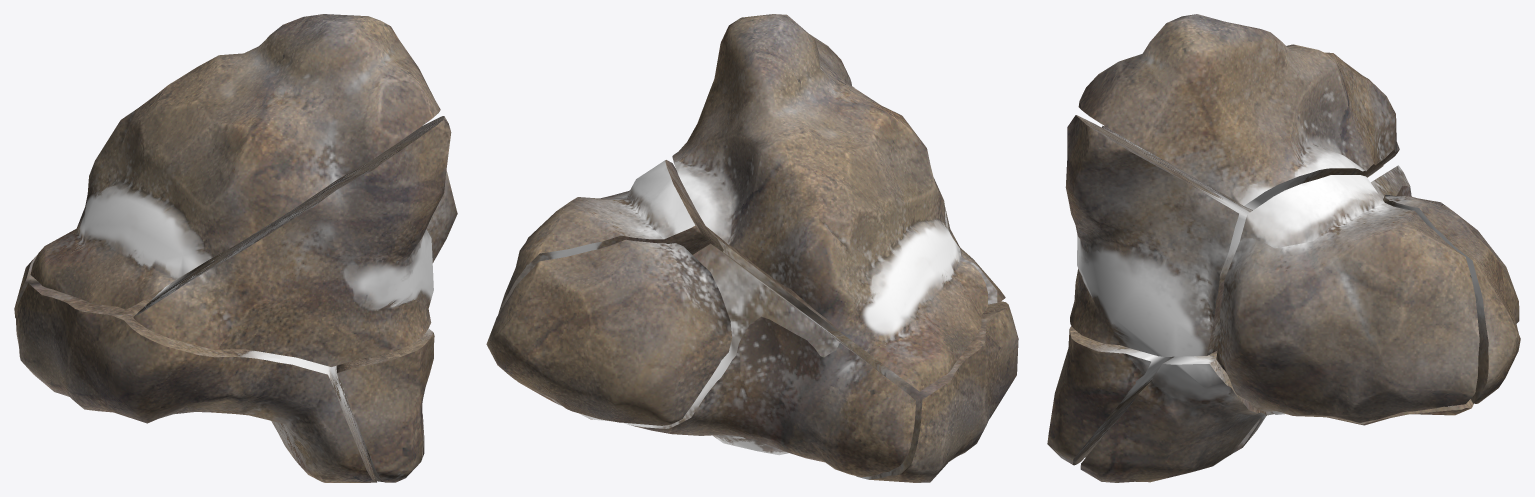
Rendered from SM_MetalNode_1a_Pieces.fbx.
3 renders of one model, left to right at view 1: azimuth 30°, elevation 25°; view 2: azimuth 150°, elevation 25°; view 3: azimuth 270°, elevation 25°, orthographic. The views are drawn at different scales.
Visible parts, largest first — view 1: SM_MetalNode_1a_Pieces_cell_2, SM_MetalNode_1a_Pieces_cell_4, SM_MetalNode_1a_Pieces_cell_1, SM_MetalNode_1a_Pieces_cell_5, SM_MetalNode_1a_Pieces_cell_8; view 2: SM_MetalNode_1a_Pieces_cell_2, SM_MetalNode_1a_Pieces_cell_6, SM_MetalNode_1a_Pieces_cell_3, SM_MetalNode_1a_Pieces_cell_1, SM_MetalNode_1a_Pieces_cell_8, SM_MetalNode_1a_Pieces_cell_4; view 3: SM_MetalNode_1a_Pieces_cell_8, SM_MetalNode_1a_Pieces_cell_2, SM_MetalNode_1a_Pieces_cell_4, SM_MetalNode_1a_Pieces_cell_7, SM_MetalNode_1a_Pieces_cell_5, SM_MetalNode_1a_Pieces_cell_6, SM_MetalNode_1a_Pieces_cell_3.
Part boxes in pixels (x1,y1,x2,y2): SM_MetalNode_1a_Pieces_cell_2: (30, 14, 440, 309); SM_MetalNode_1a_Pieces_cell_4: (133, 116, 451, 366); SM_MetalNode_1a_Pieces_cell_1: (16, 282, 376, 482); SM_MetalNode_1a_Pieces_cell_5: (336, 328, 434, 482); SM_MetalNode_1a_Pieces_cell_8: (426, 170, 457, 262); SM_MetalNode_1a_Pieces_cell_2: (672, 14, 987, 391); SM_MetalNode_1a_Pieces_cell_6: (486, 239, 731, 425); SM_MetalNode_1a_Pieces_cell_3: (517, 243, 915, 477); SM_MetalNode_1a_Pieces_cell_1: (827, 301, 1018, 482); SM_MetalNode_1a_Pieces_cell_8: (498, 160, 723, 314); SM_MetalNode_1a_Pieces_cell_4: (717, 86, 1005, 331); SM_MetalNode_1a_Pieces_cell_8: (1216, 175, 1479, 423); SM_MetalNode_1a_Pieces_cell_2: (1078, 14, 1399, 210); SM_MetalNode_1a_Pieces_cell_4: (1065, 115, 1252, 356); SM_MetalNode_1a_Pieces_cell_7: (1080, 350, 1266, 482); SM_MetalNode_1a_Pieces_cell_5: (1047, 326, 1174, 465); SM_MetalNode_1a_Pieces_cell_6: (1383, 194, 1520, 403); SM_MetalNode_1a_Pieces_cell_3: (1250, 165, 1473, 425).
Size of the model in its own units: 1.1 by 1.12 by 1.04.
